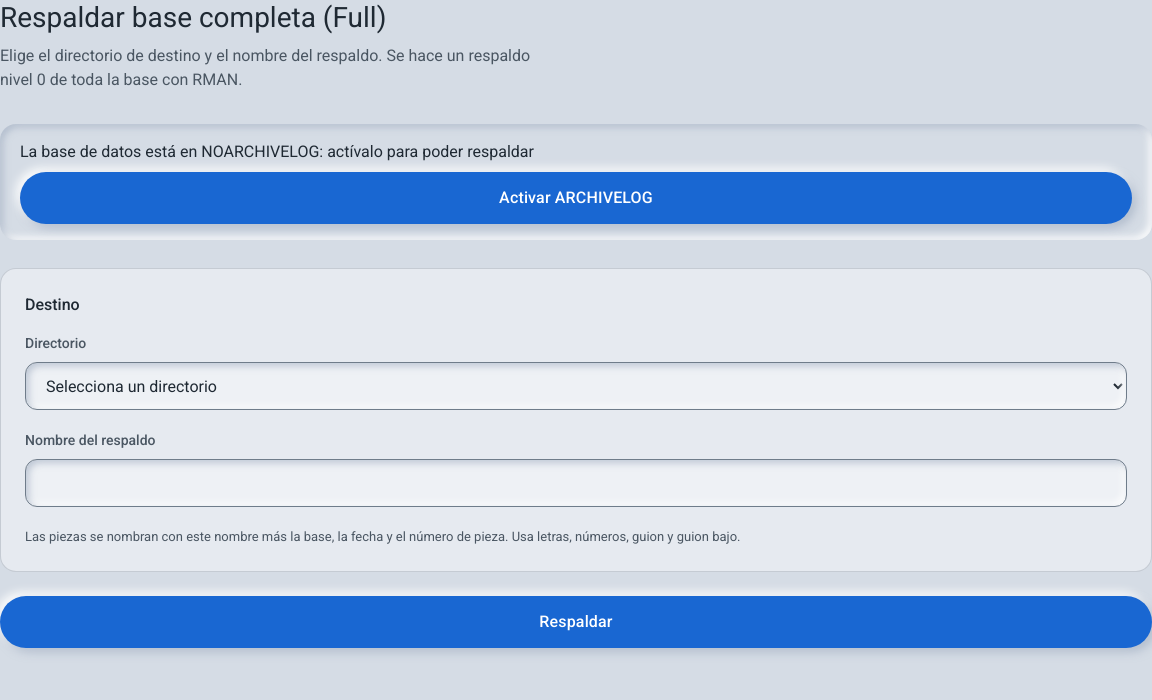
activar ARCHIVELOG › cancelar descarta la confirmación sin activar nada
Click the button "Activar ARCHIVELOG" at (576, 198), box [20,172,1132,224]
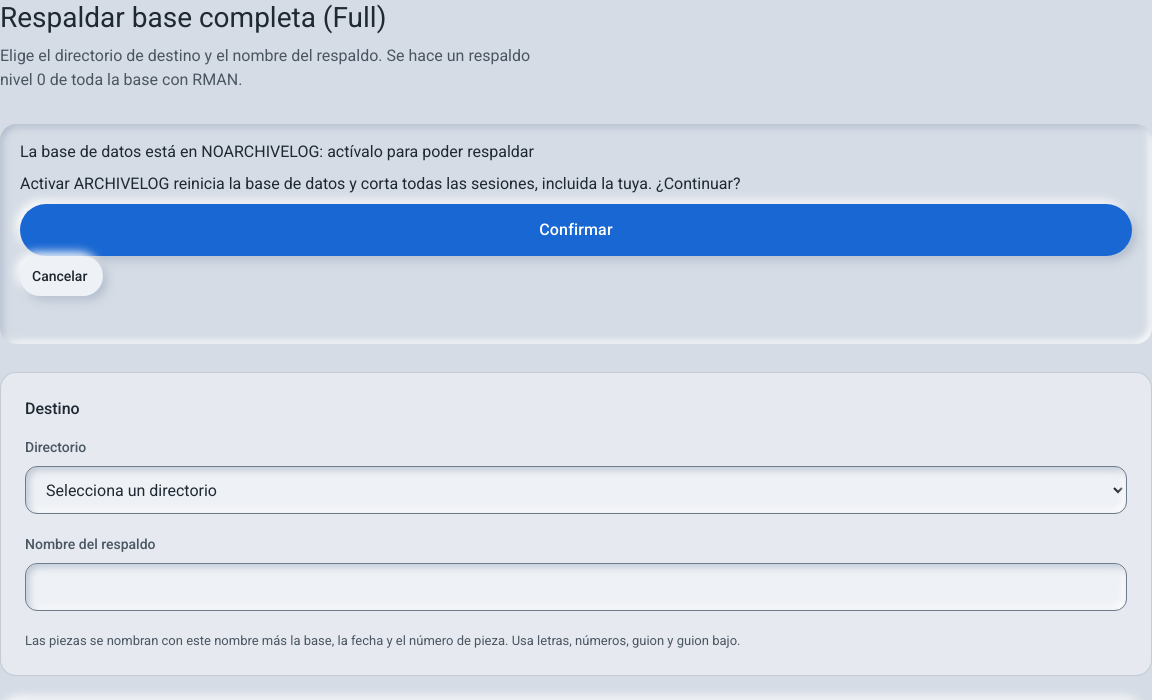
Click the button "Cancelar" at (62, 276), box [20,256,103,296]
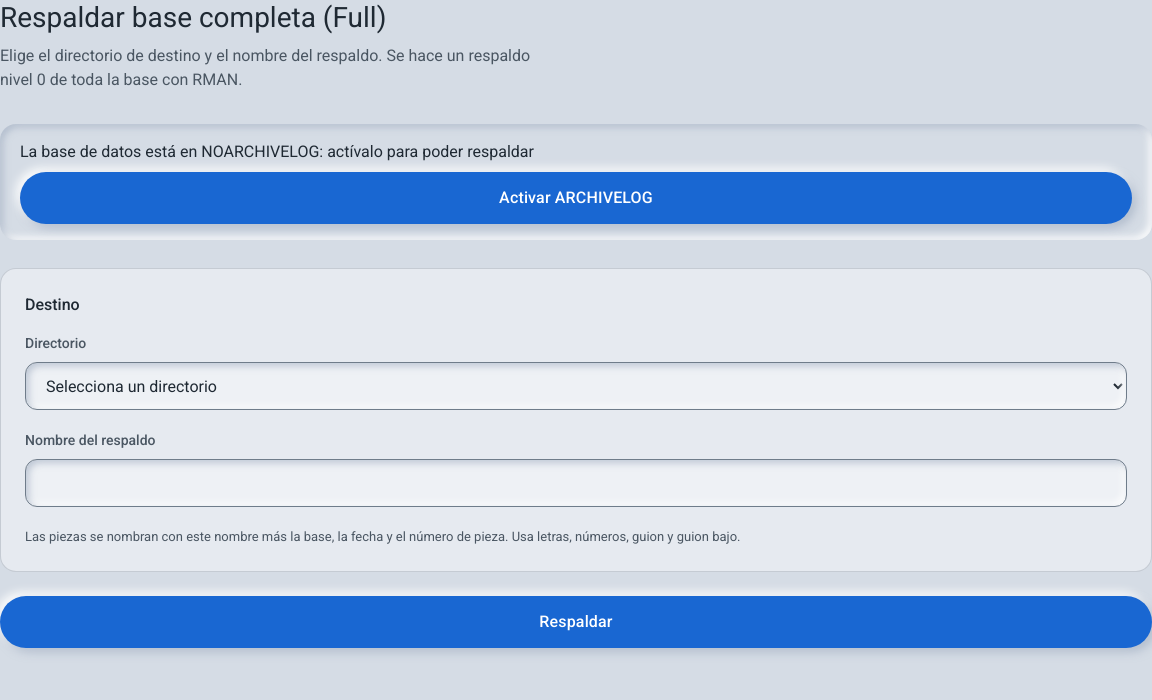
expect the text "Activar ARCHIVELOG reinicia la base de datos y corta todas las sesiones, incluida la tuya. ¿Continuar?" is gone: met
expect the button "Activar ARCHIVELOG" is shown: met, box [20,172,1132,224]
